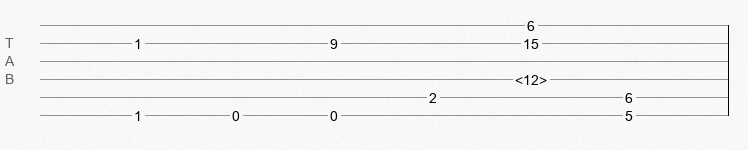0: (232, 108, 240, 118), (330, 108, 338, 118)
1: (134, 108, 142, 118), (134, 36, 142, 46)
15: (523, 36, 539, 46)
2: (429, 90, 437, 100)
5: (625, 108, 633, 118)
6: (527, 18, 535, 28), (625, 90, 633, 100)
9: (330, 36, 338, 46)
harmonic: (515, 72, 547, 82)
